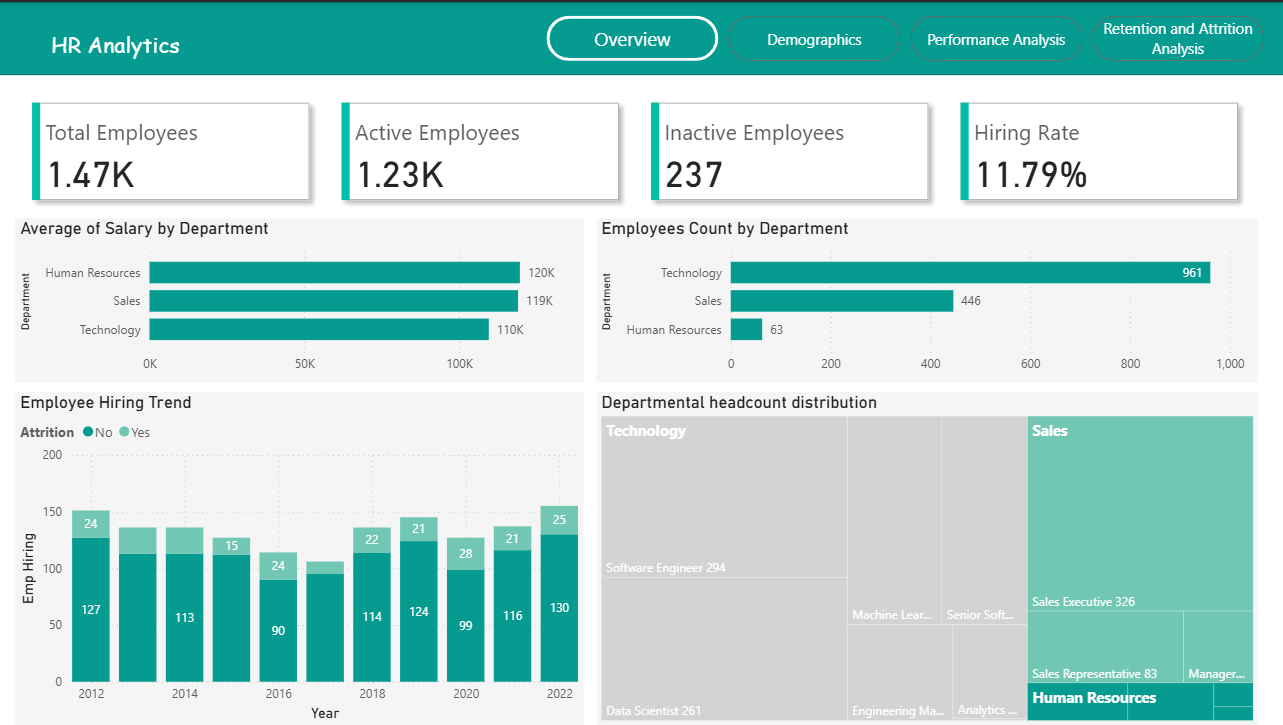

The page's visual inventory and layout, read from the dashboard file:
{"tool":"powerbi","page":{"name":"Overview","canvas":[1280,720],"ordinal":0},"visuals":[{"type":"shape","box":[0,0,1280.3,72.7],"z":0},{"type":"cardVisual","fields":{"Data":["_Measures.Total Employees","_Measures.Active Employees","_Measures.Inactive Employees","_Measures.Total Employees YoY%"]},"box":[16.5,83.7,1236.4,131.7],"z":1000},{"type":"treemap","title":"Departmental headcount distribution","fields":{"Group":["DimEmployee.Department"],"Values":["Count(DimEmployee.EmployeeID)"],"Details":["DimEmployee.JobRole"]},"box":[594.2,388.3,658.7,332.1],"z":2000},{"type":"columnChart","title":"Employee Hiring Trend","fields":{"Category":["Dim_Date.Year"],"Series":["DimEmployee.Attrition"],"Y":["_Measures.Emp Hiring"]},"box":[16.5,388.3,565.4,332.1],"z":3000},{"type":"clusteredBarChart","title":"Employees Count by Department","fields":{"Category":["DimEmployee.Department"],"Y":["CountNonNull(DimEmployee.EmployeeID)"]},"box":[594.6,215.2,658.1,163],"z":4000},{"type":"cardVisual","fields":{"Data":["_Measures.HR"]},"box":[28.8,0,171.5,72.7],"z":5000},{"type":"pageNavigator","box":[544.8,13.7,717.7,45.3],"z":6000},{"type":"clusteredBarChart","fields":{"Category":["DimEmployee.Department"],"Y":["Avg(DimEmployee.Salary)"]},"box":[16.2,215.2,566,163],"z":8000}]}

Visuals, with their boxes in screenshot pixels (x1, y1, x2, y2), scaled from the page's 1280x720 canvas onto the 1283x725 screenshot:
shape: (left=0, top=0, right=1282, bottom=73)
cardVisual - _Measures.Total Employees x _Measures.Active Employees: (left=17, top=84, right=1256, bottom=217)
"Departmental headcount distribution" treemap: (left=596, top=391, right=1256, bottom=724)
"Employee Hiring Trend" columnChart: (left=17, top=391, right=583, bottom=724)
"Employees Count by Department" clusteredBarChart: (left=596, top=217, right=1256, bottom=381)
cardVisual - _Measures.HR: (left=29, top=0, right=201, bottom=73)
pageNavigator: (left=546, top=14, right=1265, bottom=59)
clusteredBarChart - DimEmployee.Department x Avg(DimEmployee.Salary): (left=16, top=217, right=584, bottom=381)
